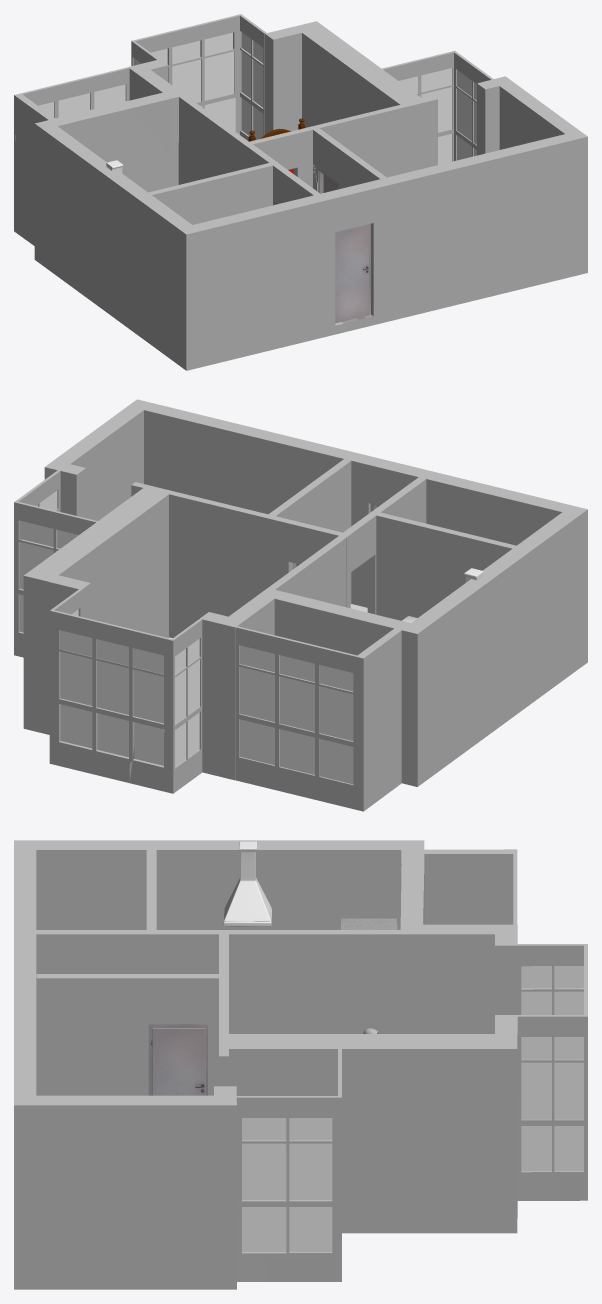
Rendered from MurodckApartLidO.glb.
The picture shows the model from 3 angles, top to bottom: view 1: azimuth 30°, elevation 25°; view 2: azimuth 150°, elevation 25°; view 3: azimuth 270°, elevation 25°; orthographic projection. The views are drawn at different scales.
Visible parts, largest first — view 1: Cube_1, Cube.010_15, Cube.005_5, Cube.014_19, Cube.004_9, Cube.008_12, Cube.015_20, Cube.016_21, Plane.001_Door_0.002, Cube.012_17, Cube.013_18, Cube.006_6 (+19 smaller); view 2: Cube.010_15, Cube_1, Cube.014_19, Cube.005_5, Cube.013_18, Cube.016_21, Cube.004_9, Cube.012_17, Cube.011_16, Cube.006_6, Cube.008_12, Cube.018_25 (+30 smaller); view 3: Cube_1, Cube.014_19, Cube.010_15, Cube.006_6, Cube.008_12, Cube.009_13, Cube.019_22, Cube.012_17, Cube.017_24, Cube.001_2, Plane.026_52, Plane.027_53 (+17 smaller).
Boxes of the visible parts, x1,y1,x2,y2 form: Cube_1: [178, 76, 587, 370]; Cube.010_15: [34, 92, 191, 364]; Cube.005_5: [242, 96, 437, 187]; Cube.014_19: [294, 21, 422, 127]; Cube.004_9: [148, 163, 272, 224]; Cube.008_12: [178, 95, 248, 184]; Cube.015_20: [265, 26, 301, 134]; Cube.016_21: [134, 14, 239, 134]; Plane.001_Door_0.002: [335, 224, 368, 323]; Cube.012_17: [15, 94, 54, 245]; Cube.013_18: [14, 67, 129, 231]; Cube.006_6: [313, 125, 386, 191]; Cube.010_15: [274, 512, 578, 786]; Cube_1: [44, 399, 587, 668]; Cube.014_19: [23, 488, 168, 734]; Cube.005_5: [131, 482, 350, 638]; Cube.013_18: [235, 626, 365, 811]; Cube.016_21: [52, 610, 171, 792]; Cube.004_9: [376, 512, 516, 620]; Cube.012_17: [357, 628, 401, 810]; Cube.011_16: [200, 612, 244, 780]; Cube.006_6: [268, 459, 351, 604]; Cube.008_12: [268, 536, 346, 606]; Cube.018_25: [170, 619, 202, 793]; Cube_1: [14, 840, 236, 1289]; Cube.014_19: [229, 1034, 517, 1233]; Cube.010_15: [36, 840, 424, 929]; Cube.006_6: [36, 974, 228, 1095]; Cube.008_12: [229, 930, 400, 1033]; Cube.009_13: [400, 924, 494, 1033]; Cube.019_22: [236, 1096, 337, 1281]; Cube.012_17: [424, 849, 513, 924]; Cube.017_24: [517, 1015, 587, 1200]; Cube.001_2: [36, 930, 150, 1095]; Plane.026_52: [242, 1143, 332, 1199]; Plane.027_53: [242, 1207, 332, 1251].
Size of the model in its own units: 11.7 by 3.91 by 10.72.
84 materials, 49 textured.
